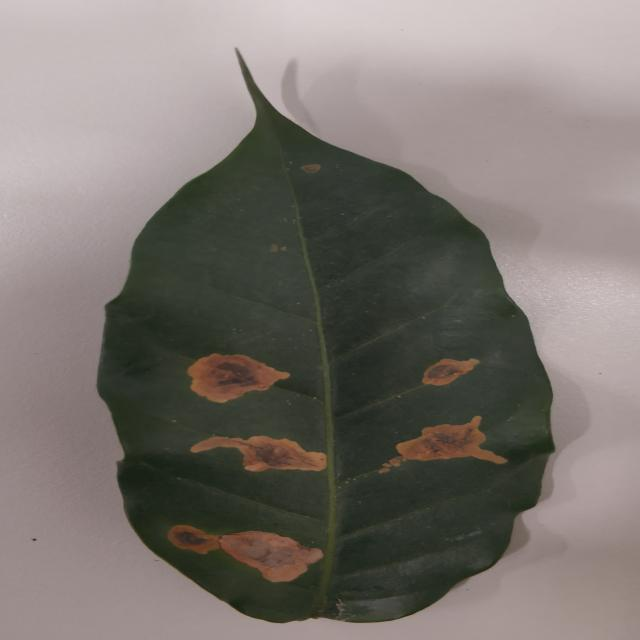Plaga-Minador: (95, 57, 556, 626)
